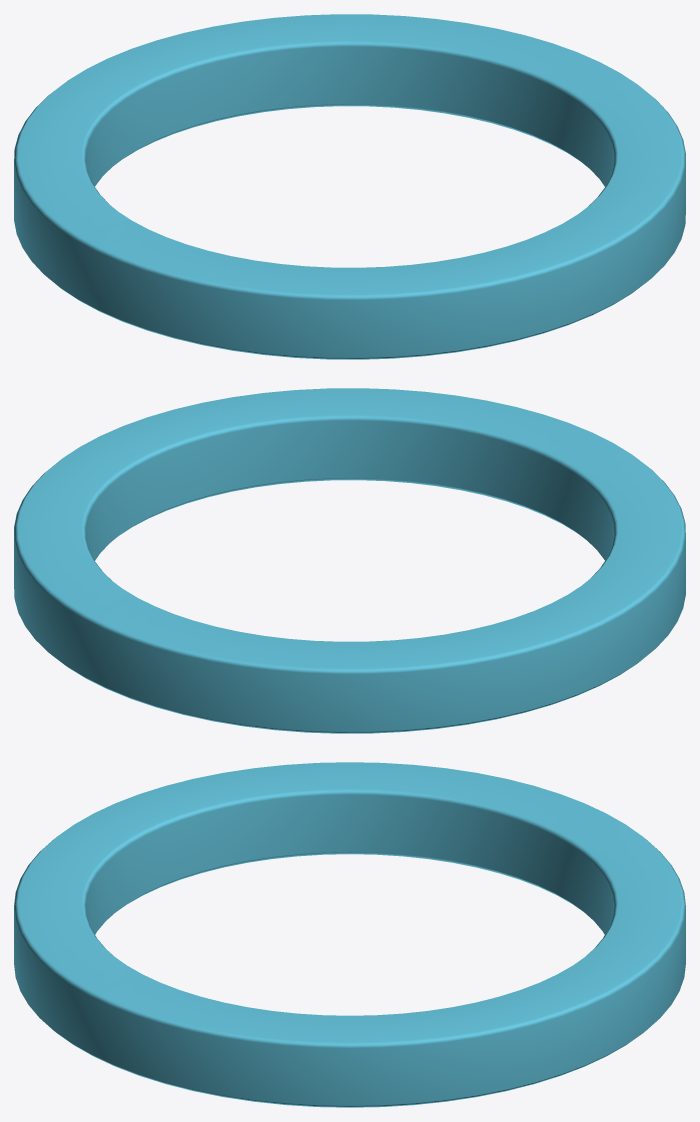
3 views of the same model, one above another, from view 1: azimuth 30°, elevation 25°; view 2: azimuth 150°, elevation 25°; view 3: azimuth 270°, elevation 25° (orthographic).
Parts seen in each view (by area): view 1: seal_body; view 2: seal_body; view 3: seal_body.
Boxes of the visible parts, box(x1,y1,x2,y2) form: seal_body: box(14, 14, 685, 359); seal_body: box(14, 388, 685, 733); seal_body: box(14, 762, 685, 1107).
Bounding box in the file's own units: 0.0889 × 0.00952 × 0.0889.
